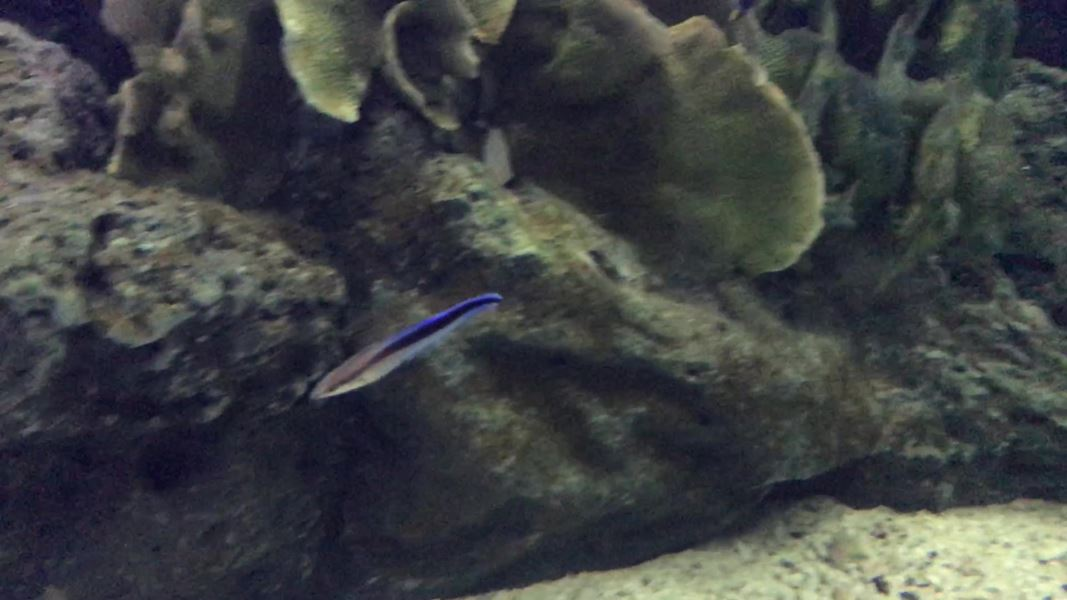Bluesteak cleaner wrasse: (307, 282, 508, 418)
